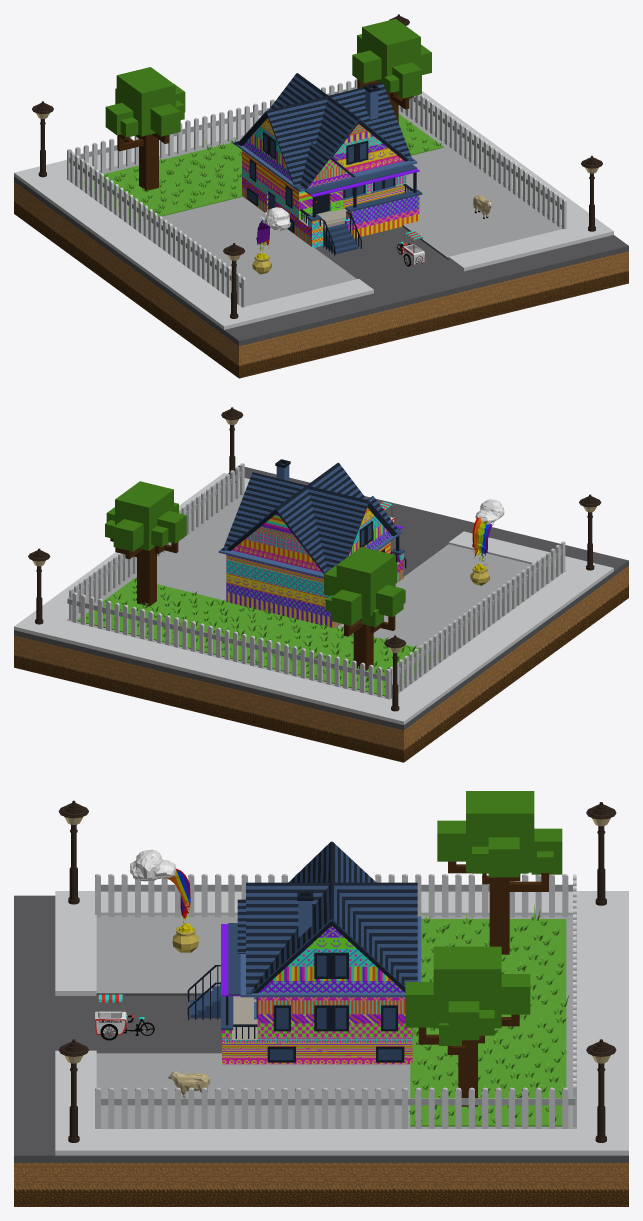
3 views of the same model, one above another, from view 1: azimuth 30°, elevation 25°; view 2: azimuth 150°, elevation 25°; view 3: azimuth 270°, elevation 25° (orthographic). The views are drawn at different scales.
Visible parts, largest first — view 1: Cube.004, Cube.676, OBJRANDOM_RAINBOW, VEHICLES_SNOWBAL_BIKE; view 2: Cube.004, Cube.676, OBJRANDOM_RAINBOW; view 3: Cube.004, Cube.676, OBJRANDOM_RAINBOW, VEHICLES_SNOWBAL_BIKE, ANIMAL_OVEJA.
Boxes of the visible parts, x1,y1,x2,y2 form: Cube.004: (14, 14, 628, 378); Cube.676: (233, 73, 422, 255); OBJRANDOM_RAINBOW: (252, 207, 290, 274); VEHICLES_SNOWBAL_BIKE: (396, 230, 425, 266); Cube.004: (14, 407, 628, 762); Cube.676: (218, 459, 406, 627); OBJRANDOM_RAINBOW: (470, 499, 504, 585); Cube.004: (14, 791, 628, 1206); Cube.676: (187, 841, 421, 1064); OBJRANDOM_RAINBOW: (129, 849, 198, 952); VEHICLES_SNOWBAL_BIKE: (94, 994, 154, 1040); ANIMAL_OVEJA: (168, 1071, 209, 1098).
Bounding box in the file's own units: 4000 × 1600 × 4000.
Materials: 41 (7 with a texture image).
